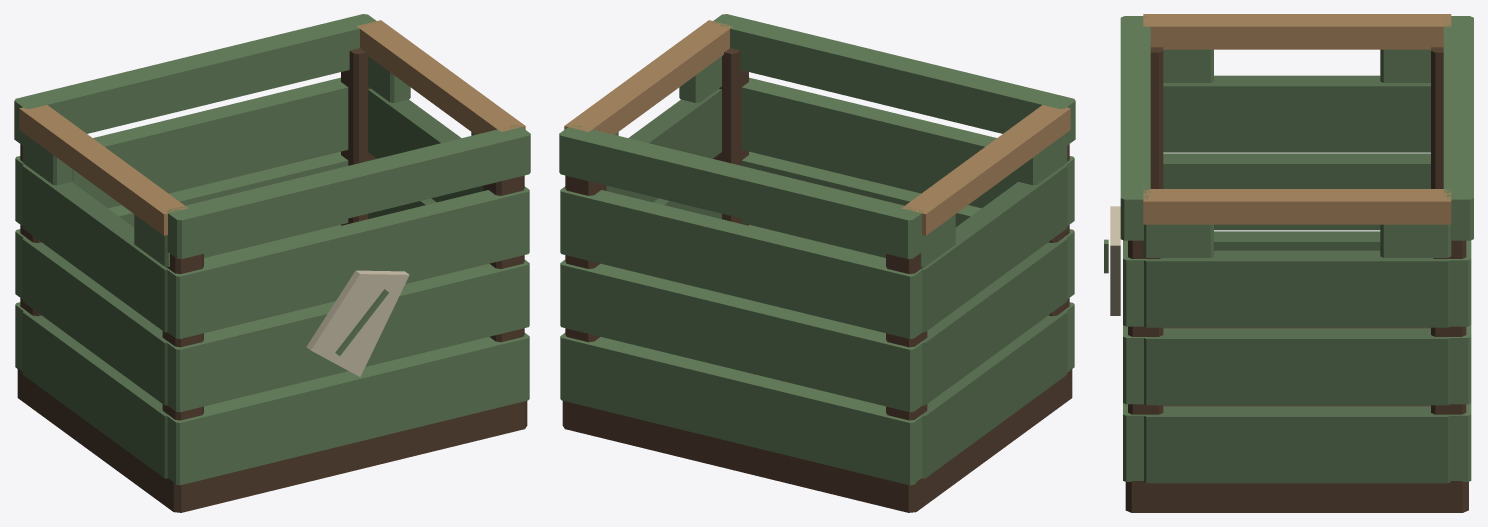
The model's file is sort_bin_green.glb.
3 renders of one model, left to right at view 1: azimuth 30°, elevation 25°; view 2: azimuth 150°, elevation 25°; view 3: azimuth 270°, elevation 25°, orthographic. The views are drawn at different scales.
Parts seen in each view (by area): view 1: geometry; view 2: geometry; view 3: geometry.
Part boxes in pixels (left/top/right/bottom): geometry: left=14, top=14, right=530, bottom=512; geometry: left=559, top=14, right=1075, bottom=512; geometry: left=1104, top=14, right=1473, bottom=512.
Bounding box in the file's own units: 0.88 × 0.685 × 0.7325.
